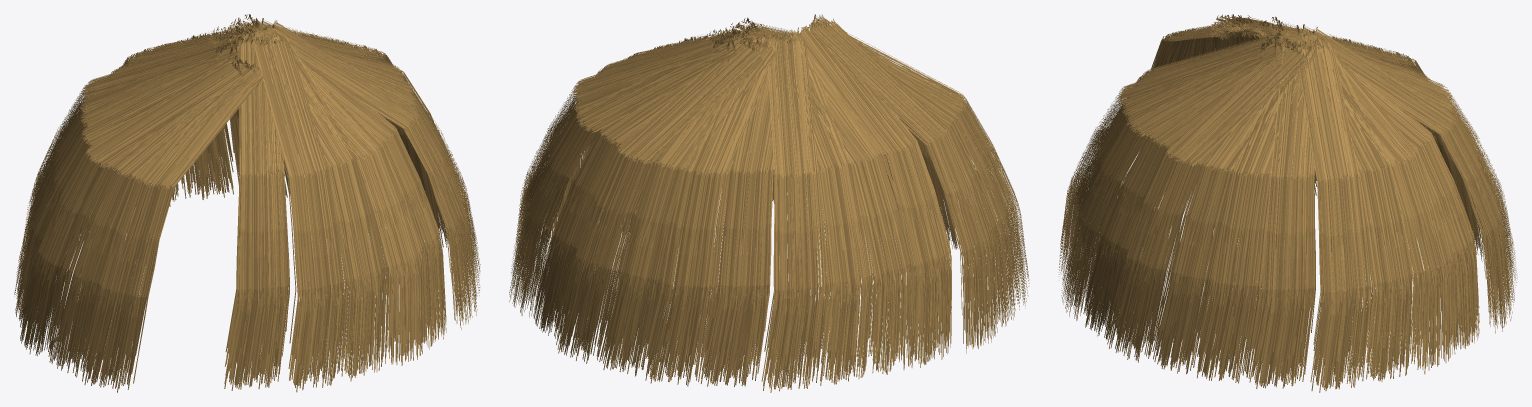
Rendered from TheHut_Thatch.glb.
3 views of the same model, side by side, from view 1: azimuth 30°, elevation 25°; view 2: azimuth 150°, elevation 25°; view 3: azimuth 270°, elevation 25° (orthographic). The views are drawn at different scales.
Visible parts, largest first — view 1: Kalahari_Straw_Batch_000, Kalahari_Straw_Batch_025, Kalahari_Straw_Batch_005, Kalahari_Straw_Batch_020, Kalahari_Straw_Batch_015, Kalahari_Straw_Batch_010; view 2: Kalahari_Straw_Batch_020, Kalahari_Straw_Batch_015, Kalahari_Straw_Batch_025, Kalahari_Straw_Batch_010, Kalahari_Straw_Batch_000, Kalahari_Straw_Batch_005; view 3: Kalahari_Straw_Batch_010, Kalahari_Straw_Batch_005, Kalahari_Straw_Batch_015, Kalahari_Straw_Batch_000, Kalahari_Straw_Batch_025, Kalahari_Straw_Batch_020.
Boxes of the visible parts, <box> form: Kalahari_Straw_Batch_000: <box>224,31,423,392</box>; Kalahari_Straw_Batch_025: <box>15,52,263,392</box>; Kalahari_Straw_Batch_005: <box>251,18,480,351</box>; Kalahari_Straw_Batch_020: <box>14,33,245,307</box>; Kalahari_Straw_Batch_015: <box>96,25,294,206</box>; Kalahari_Straw_Batch_010: <box>228,14,456,248</box>; Kalahari_Straw_Batch_020: <box>700,29,914,392</box>; Kalahari_Straw_Batch_015: <box>533,31,776,386</box>; Kalahari_Straw_Batch_025: <box>797,14,1029,367</box>; Kalahari_Straw_Batch_010: <box>509,29,738,317</box>; Kalahari_Straw_Batch_000: <box>730,17,959,249</box>; Kalahari_Straw_Batch_005: <box>580,27,787,220</box>; Kalahari_Straw_Batch_010: <box>1249,37,1453,392</box>; Kalahari_Straw_Batch_005: <box>1083,35,1318,383</box>; Kalahari_Straw_Batch_015: <box>1292,24,1517,353</box>; Kalahari_Straw_Batch_000: <box>1059,29,1284,320</box>; Kalahari_Straw_Batch_025: <box>1142,14,1317,195</box>; Kalahari_Straw_Batch_020: <box>1254,16,1490,261</box>.
Bounding box in the file's own units: 6.4 × 3.62 × 5.87.
